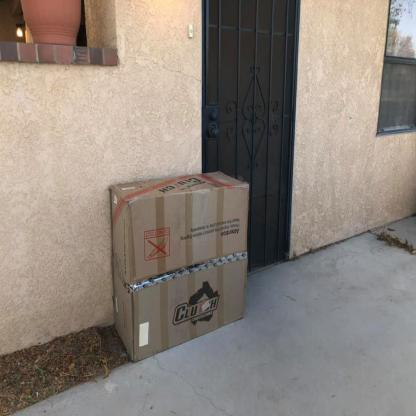box: (110, 253, 254, 367), (111, 170, 248, 288)
